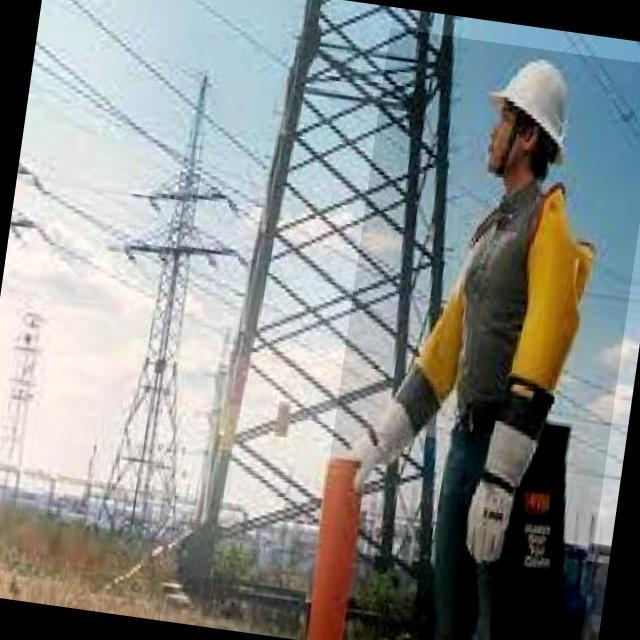Gloves: (453, 410, 576, 575), (341, 372, 444, 504)
Helmet: (480, 50, 586, 173)
Person: (285, 19, 634, 640)
Safety Vest: (393, 183, 608, 443)
